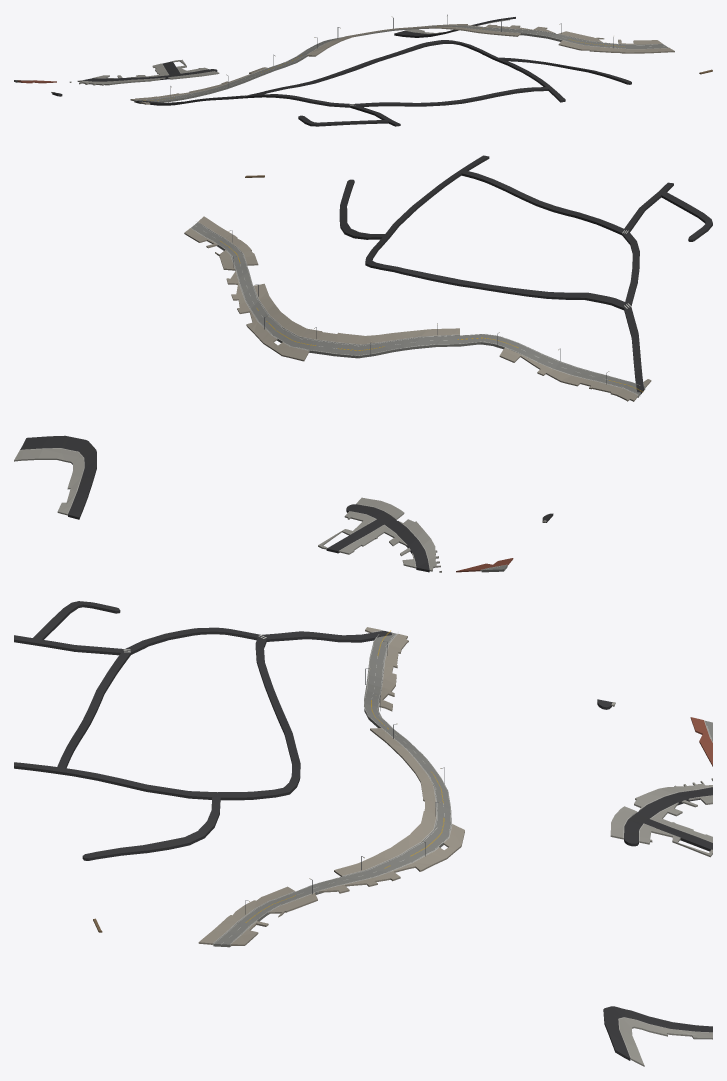
The picture shows the model from 3 angles, top to bottom: view 1: azimuth 30°, elevation 25°; view 2: azimuth 150°, elevation 25°; view 3: azimuth 270°, elevation 25°; orthographic projection. The views are drawn at different scales.
Bounding box in the file's own units: 297 × 103 × 291.
